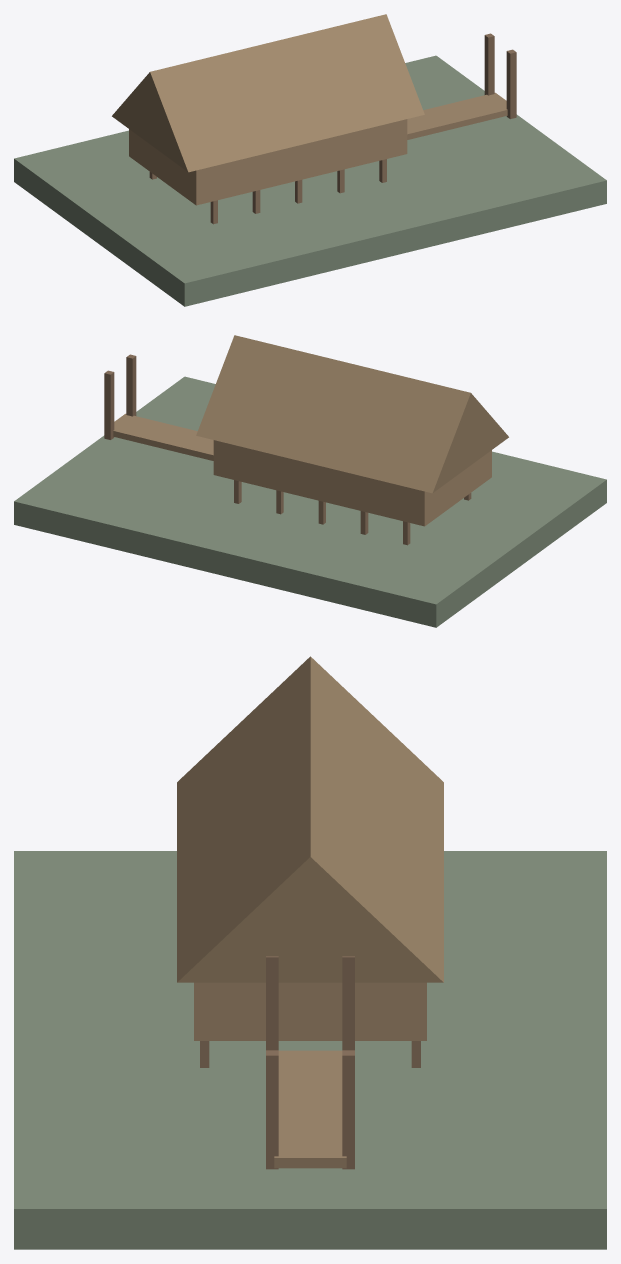
Rendered from lm_128_nha_san_go_k_ho_va_cau_treo_suoi_can_khu_du_lich_lang_cu_lan.glb.
3 renders of one model, top to bottom at view 1: azimuth 30°, elevation 25°; view 2: azimuth 150°, elevation 25°; view 3: azimuth 270°, elevation 25°, orthographic. The views are drawn at different scales.
Parts seen in each view (by area): view 1: lm_128; view 2: lm_128; view 3: lm_128.
Part boxes in pixels (bbox=[...]): lm_128: bbox=[14, 14, 606, 306]; lm_128: bbox=[14, 335, 606, 627]; lm_128: bbox=[14, 656, 606, 1249].
Bounding box in the file's own units: 40 × 14.5 × 28.
